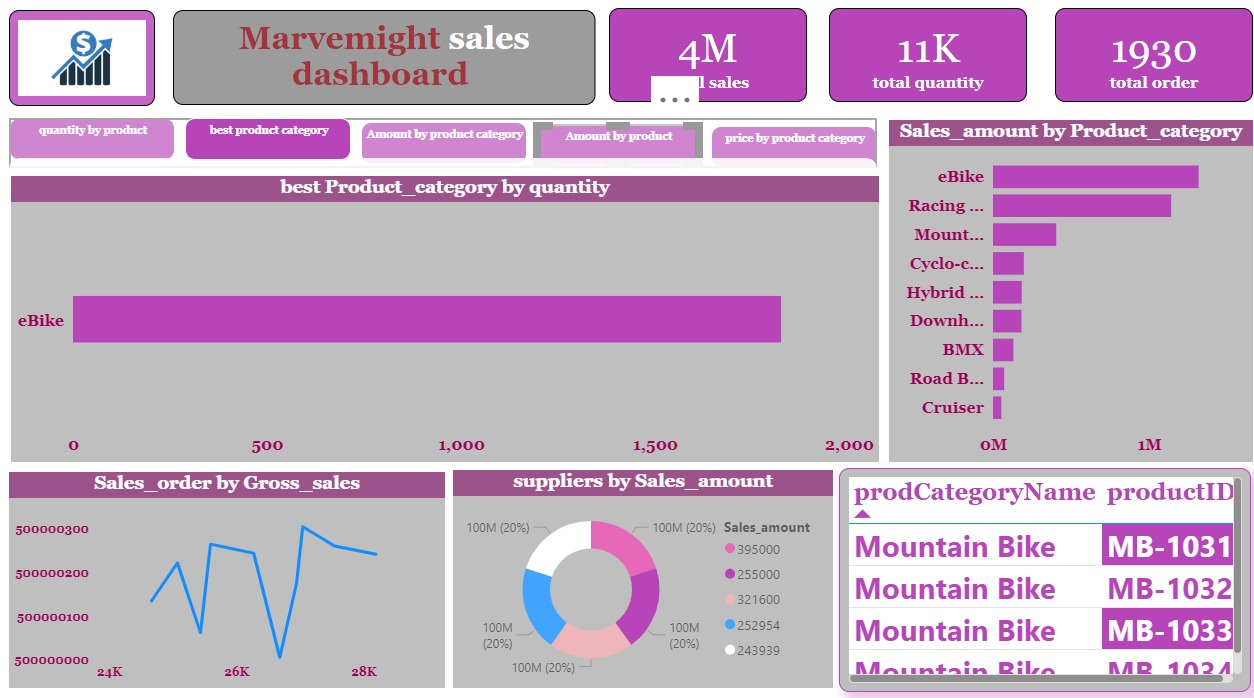

What the dashboard file says about the page in this screenshot:
{"tool":"powerbi","page":{"name":"product report","canvas":[1280,720],"ordinal":0},"visuals":[{"type":"group","id":"g1","title":"header","box":[18.5,14,1243.5,684],"z":0},{"type":"barChart","fields":{"Y":["Sum(Query2.price)"],"Category":["Query2.product_category"]},"box":[28,178,860,286],"z":0,"group":"g4"},{"type":"tableEx","fields":{"Values":["Query3.prodCategoryName","Query3.productID"]},"box":[848.5,474,412,224],"z":0,"group":"g1"},{"type":"actionButton","title":"price by product category","box":[720,130,166,42],"z":500,"group":"g3"},{"type":"textbox","box":[182.5,15,422.5,95],"z":1000,"group":"g1"},{"type":"group","id":"g2","title":"inactive btn","box":[18,124,868,50],"z":1000},{"type":"card","fields":{"Values":["final_project sales_order.total sales"]},"box":[618,14,198,94],"z":2000,"group":"g1"},{"type":"shape","box":[18,164,868,278],"z":2000},{"type":"actionButton","title":"price by product category","box":[720,132,166,42],"z":2500,"group":"g2"},{"type":"card","fields":{"Values":["final_project sales_order.total quantity"]},"box":[838,14,198,94],"z":3000,"group":"g1"},{"type":"group","id":"g3","title":"active btn","box":[18,122,868,50],"z":3000},{"type":"actionButton","title":"Amount by product","box":[544.5,130,166,42],"z":3000,"group":"g2"},{"type":"card","fields":{"Values":["final_project sales_order.total order"]},"box":[1064,14,198,94],"z":4000,"group":"g1"},{"type":"group","id":"g4","title":"chart","box":[20,178,870,296],"z":4000},{"type":"actionButton","title":"Amount by product category","box":[369,128,166,42],"z":4125,"group":"g2"},{"type":"actionButton","title":"best product category","box":[193.5,126,166,42],"z":4250,"group":"g2"},{"type":"actionButton","title":"quantity by product","box":[18,124,166,42],"z":4500,"group":"g2"},{"type":"image","box":[18.5,16,146,96],"z":5000,"group":"g1"},{"type":"barChart","fields":{"Category":["Query4.Product_category"],"Y":["Sum(Query4.Sales_amount)"]},"box":[898,126,364,342],"z":5000},{"type":"donutChart","fields":{"Category":["Query5.Sales_amount"],"Y":["Sum(Query5.suppliers)"]},"box":[462,476,380,218],"z":5001},{"type":"lineChart","fields":{"Category":["Query6.Gross_sales"],"Y":["Sum(Query6.Sales_order)"]},"box":[18,478,436,216],"z":5002}]}

Visuals, with their boxes in screenshot pixels (x1, y1, x2, y2), scaled from the page's 1280x720 canvas onto the 1254x698 screenshot:
"header" group: crop(18, 14, 1236, 677)
barChart - Sum(Query2.price) x Query2.product_category: crop(27, 173, 870, 450)
tableEx - Query3.prodCategoryName x Query3.productID: crop(831, 460, 1235, 677)
"price by product category" actionButton: crop(705, 126, 868, 167)
textbox: crop(179, 15, 593, 107)
"inactive btn" group: crop(18, 120, 868, 169)
card - final_project sales_order.total sales: crop(605, 14, 799, 105)
shape: crop(18, 159, 868, 428)
"price by product category" actionButton: crop(705, 128, 868, 169)
card - final_project sales_order.total quantity: crop(821, 14, 1015, 105)
"active btn" group: crop(18, 118, 868, 167)
"Amount by product" actionButton: crop(533, 126, 696, 167)
card - final_project sales_order.total order: crop(1042, 14, 1236, 105)
"chart" group: crop(20, 173, 872, 460)
"Amount by product category" actionButton: crop(362, 124, 524, 165)
"best product category" actionButton: crop(190, 122, 352, 163)
"quantity by product" actionButton: crop(18, 120, 180, 161)
image: crop(18, 16, 161, 109)
barChart - Query4.Product_category x Sum(Query4.Sales_amount): crop(880, 122, 1236, 454)
donutChart - Query5.Sales_amount x Sum(Query5.suppliers): crop(453, 461, 825, 673)
lineChart - Query6.Gross_sales x Sum(Query6.Sales_order): crop(18, 463, 445, 673)
